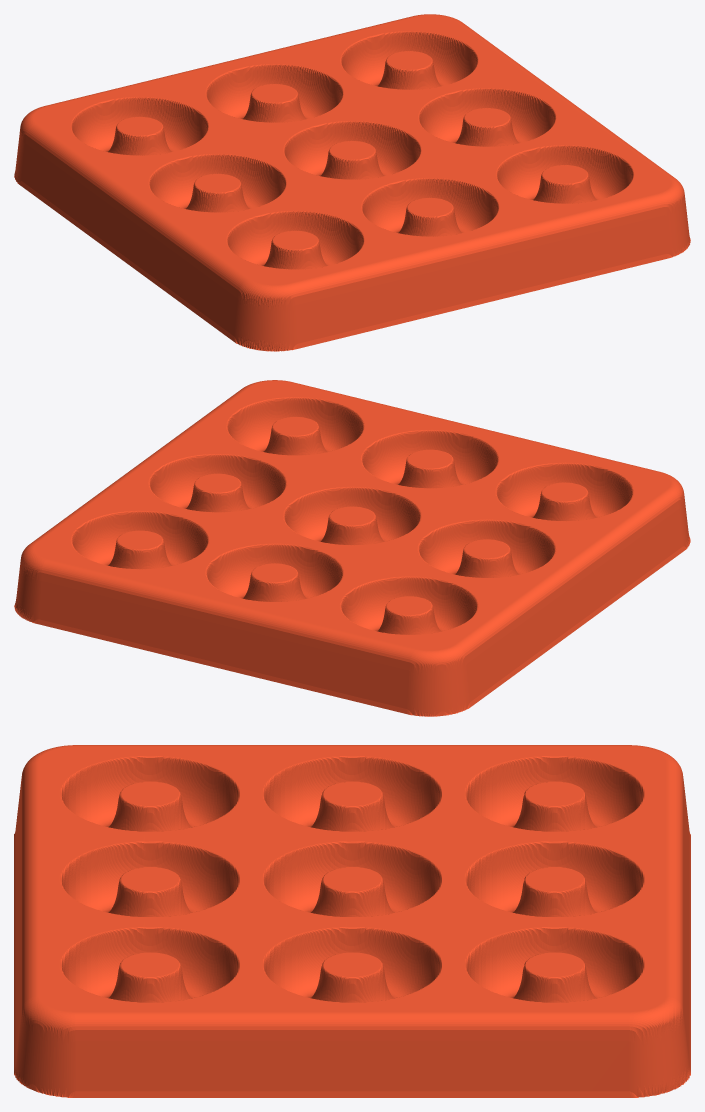
File: mold.glb
The picture shows the model from 3 angles, top to bottom: view 1: azimuth 30°, elevation 25°; view 2: azimuth 150°, elevation 25°; view 3: azimuth 270°, elevation 25°; orthographic projection. The views are drawn at different scales.
Parts seen in each view (by area): view 1: geometry_0; view 2: geometry_0; view 3: geometry_0.
Boxes of the visible parts, bbox=[...] form: geometry_0: bbox=[14, 14, 690, 351]; geometry_0: bbox=[14, 380, 690, 716]; geometry_0: bbox=[14, 745, 690, 1097].
Bounding box in the file's own units: 0.0984 × 0.0121 × 0.0984.
